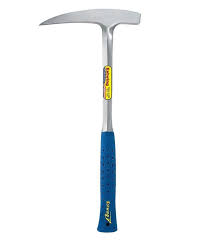hammer: (37, 7, 142, 233)
